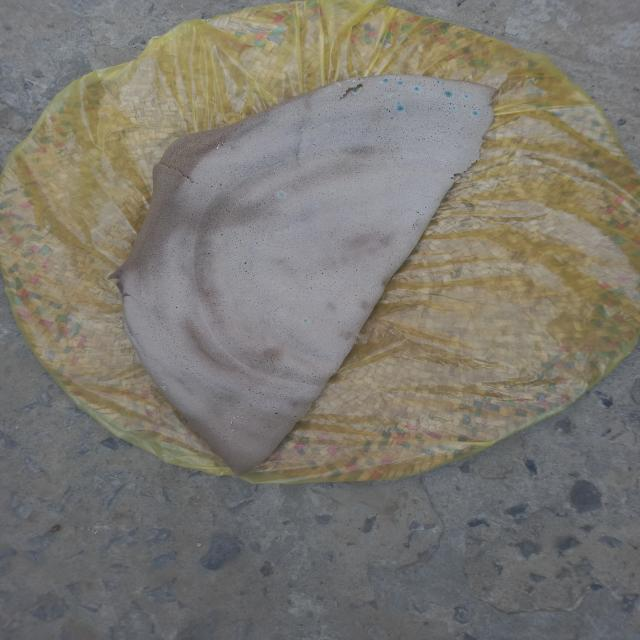injera_mold: (276, 190, 288, 200), (444, 91, 454, 98), (395, 105, 405, 111), (346, 78, 358, 83), (413, 86, 421, 92), (160, 385, 167, 391), (335, 82, 344, 86), (472, 111, 479, 116), (352, 88, 360, 92), (397, 81, 404, 85), (381, 79, 390, 82), (230, 417, 236, 421), (396, 101, 402, 105), (464, 94, 469, 98), (303, 319, 309, 322), (354, 84, 358, 88), (436, 80, 440, 84), (452, 106, 456, 110), (217, 144, 221, 147), (162, 381, 165, 384), (232, 429, 235, 432), (229, 422, 233, 424), (241, 416, 244, 418), (237, 416, 240, 418), (216, 147, 219, 149), (223, 420, 225, 422), (225, 417, 227, 419), (218, 152, 220, 154), (212, 151, 213, 153), (222, 143, 223, 144), (227, 152, 228, 153), (228, 148, 230, 148)
